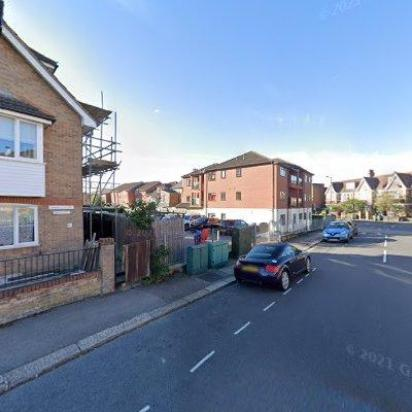stationary-car-offstreet: (218, 219, 248, 235)
stationary-car-onstreet: (232, 241, 312, 291), (322, 220, 352, 242)
stationary-light-truck-offstreet: (185, 214, 203, 230)
